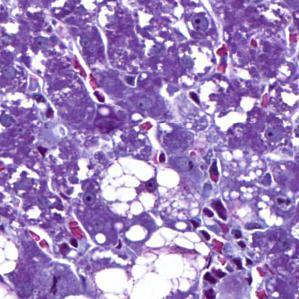ballooning: (89, 225, 212, 295), (97, 153, 184, 220)
